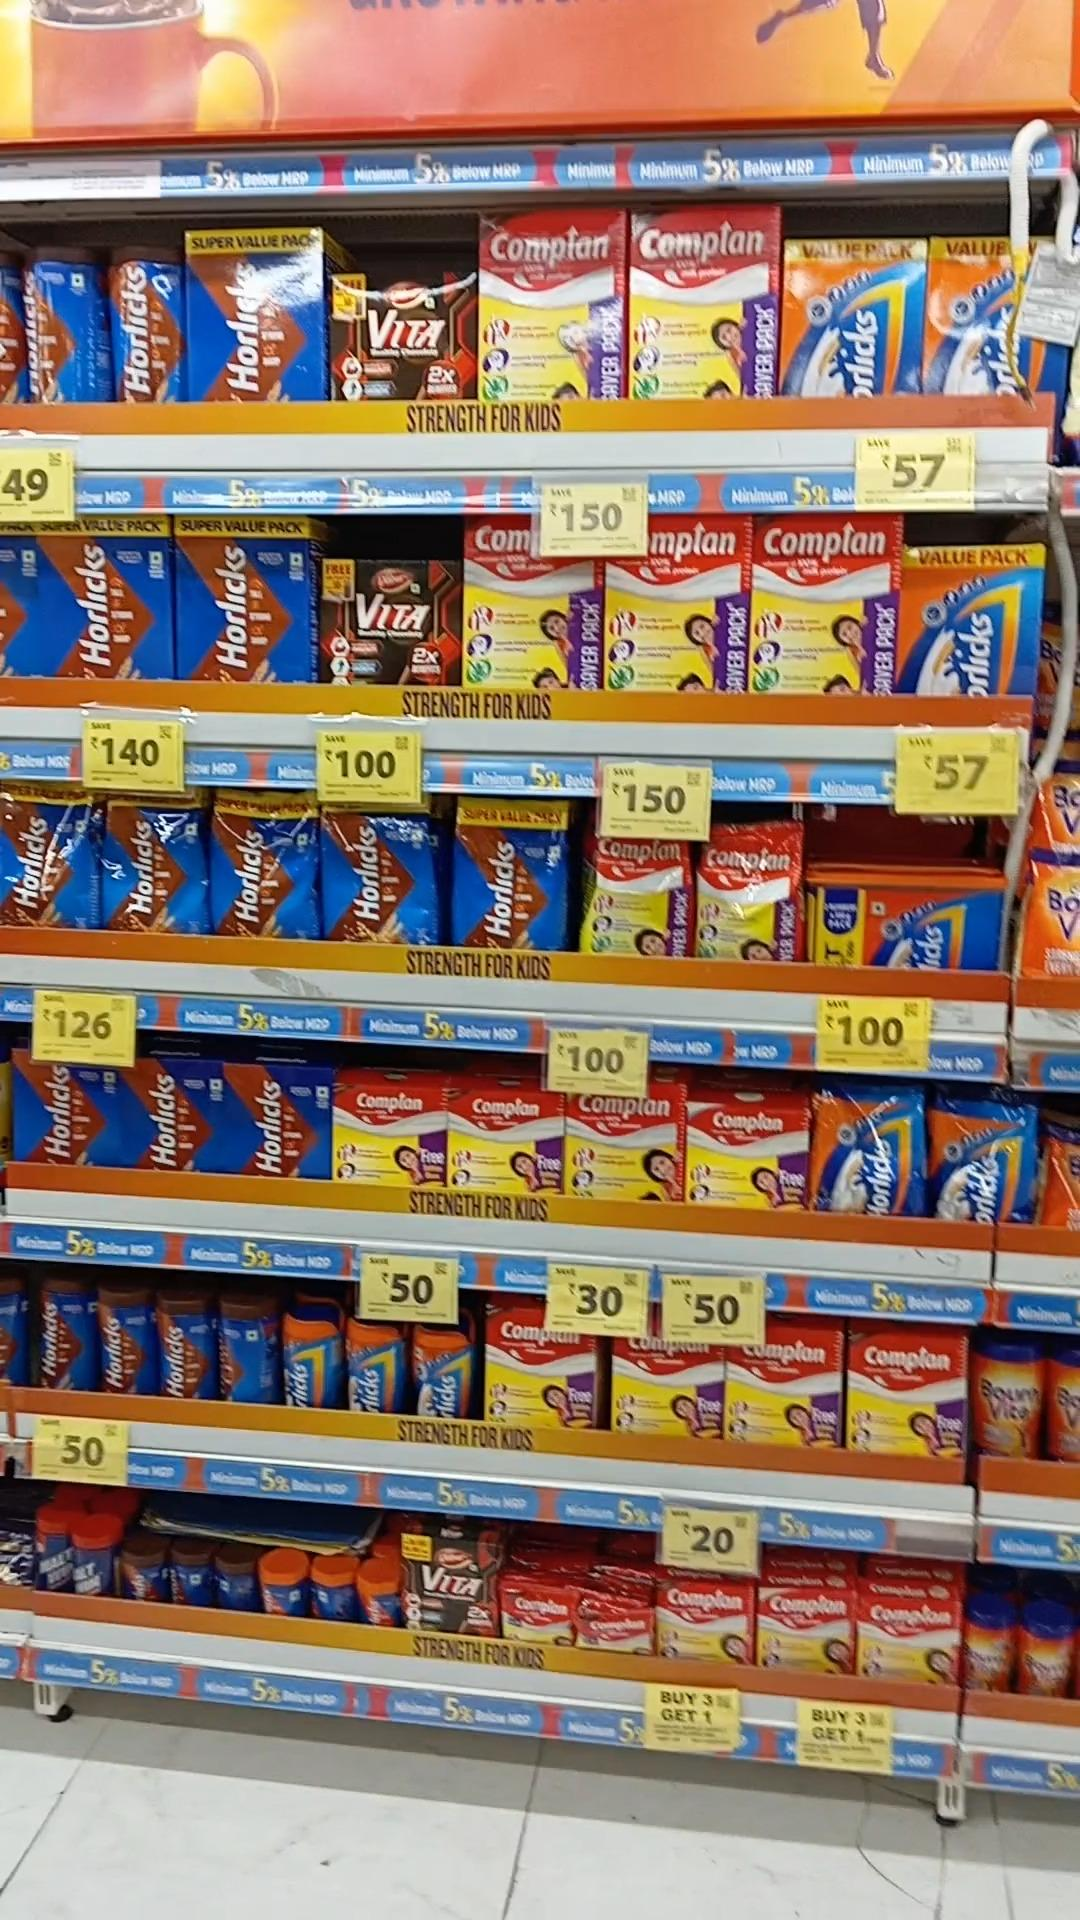COMPLAN_CHOCOLATE_1_KG_PACK: (481, 204, 622, 402), (628, 208, 774, 398), (754, 514, 891, 696), (609, 516, 744, 696), (464, 516, 597, 690)
COMPLAN_CHOCOLATE_200_GMS_PACK: (653, 1580, 750, 1663)
COMPLAN_CHOCOLATE_500_GMS_PACK: (848, 1333, 963, 1458), (483, 1305, 595, 1429), (446, 1088, 563, 1196), (335, 1084, 443, 1188)
COMPLAN_CREAMY_CLASSIC_500_G_PACK: (682, 1098, 808, 1208)
COMPLAN_KESAR_BADAM_200_GMS_PACK: (756, 1588, 852, 1676)
COMPLAN_RC_POUCH_700_GMS_12: (704, 822, 806, 964), (592, 839, 695, 959)
HORLICK_CHOCOLATE_1_KG_JAR: (20, 241, 92, 404), (109, 241, 178, 404)
HORLICK_CHOCOLATE_1_KG_PACK: (186, 229, 326, 402), (175, 516, 306, 682), (57, 514, 173, 684)
HORLICK_CHOCOLATE_500_G_JAR: (98, 1283, 157, 1399), (34, 1282, 92, 1395), (157, 1295, 211, 1403)
HORLICK_CHOCOLATE_500_G_PACK: (225, 1062, 331, 1180), (13, 1056, 123, 1166), (129, 1058, 222, 1172)
HORLICK_CHOCOLATE_750_G_POUCH: (455, 798, 568, 952), (327, 800, 438, 947), (218, 789, 320, 940), (0, 779, 96, 930), (108, 790, 208, 934)
HORLICK_CLASSIC_MALT_500_G_PACK: (783, 239, 920, 400), (928, 237, 1068, 394), (903, 549, 1036, 698)
HORLICK_CLASSIC_MALT_750_G_POUCH: (815, 1083, 926, 1220), (930, 1100, 1035, 1228)
HORLICK_MALT_1_KG_CONTAINER: (811, 882, 1006, 968)
